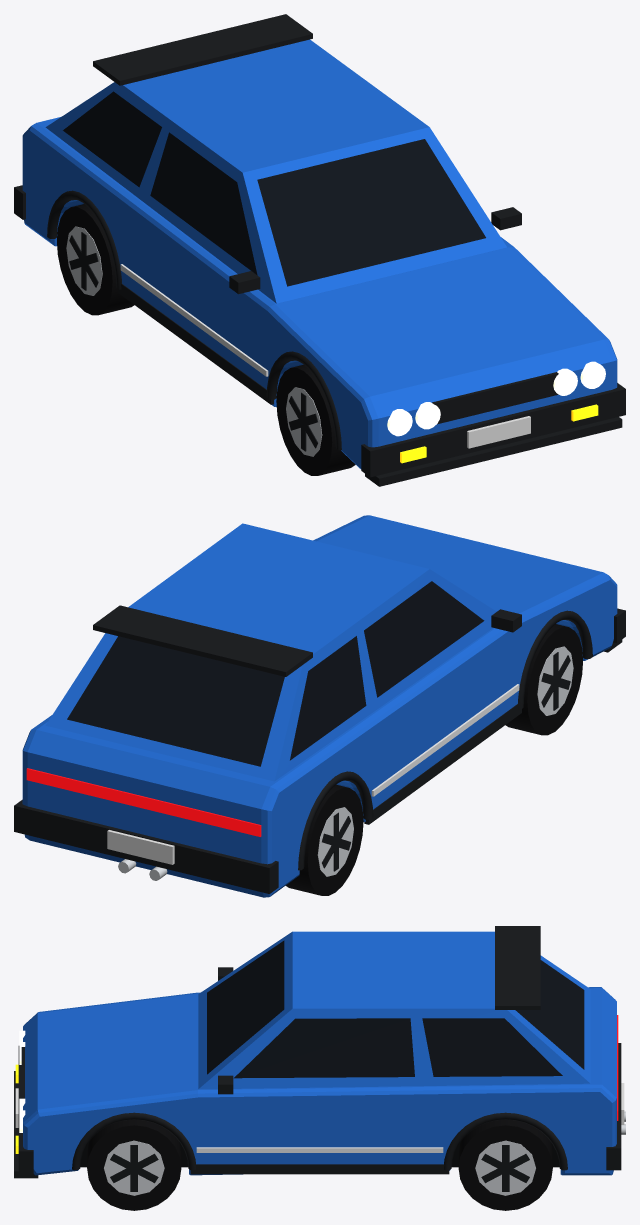
File: gol-turbao.glb
3 renders of one model, top to bottom at view 1: azimuth 30°, elevation 25°; view 2: azimuth 150°, elevation 25°; view 3: azimuth 270°, elevation 25°, orthographic. The views are drawn at different scales.
Parts seen in each view (by area): view 1: body, greenhouse, glass, roof_spoiler, bumper_front, wheel_FL, wheel_RL, lip_front, grille, arch_flare (×2), sill, side_stripe (+1 smaller); view 2: body, greenhouse, glass, bumper_rear, roof_spoiler, wheel_RL, wheel_FL, tail_lightbar, arch_flare (×2), sill, plate_rear, side_stripe (+1 smaller); view 3: body, greenhouse, glass, wheel_FR, wheel_RR, roof_spoiler, arch_flare (×2), sill, side_stripe, bumper_rear, bumper_front, underbody (+1 smaller).
Boxes of the visible parts, x1,y1,x2,y2 form: body: [22, 117, 617, 469]; greenhouse: [45, 39, 506, 303]; glass: [63, 91, 485, 286]; roof_spoiler: [93, 14, 312, 85]; bumper_front: [361, 383, 625, 477]; wheel_FL: [276, 364, 355, 475]; wheel_RL: [57, 204, 134, 315]; lip_front: [365, 417, 622, 486]; grille: [432, 372, 558, 424]; arch_flare (×2): [47, 190, 341, 450]; sill: [118, 283, 273, 404]; side_stripe: [120, 264, 268, 376]; body: [22, 515, 617, 897]; greenhouse: [45, 523, 496, 781]; glass: [67, 581, 484, 766]; bumper_rear: [14, 799, 278, 893]; roof_spoiler: [93, 605, 312, 676]; wheel_RL: [285, 784, 363, 895]; wheel_FL: [505, 624, 582, 735]; tail_lightbar: [26, 768, 261, 836]; arch_flare (×2): [298, 610, 592, 870]; sill: [364, 703, 521, 824]; plate_rear: [107, 830, 174, 864]; side_stripe: [371, 684, 519, 796]; body: [23, 987, 616, 1175]; greenhouse: [198, 931, 590, 1089]; glass: [207, 940, 584, 1078]; wheel_FR: [87, 1119, 181, 1210]; wheel_RR: [458, 1119, 552, 1210]; roof_spoiler: [495, 926, 540, 1009]; arch_flare (×2): [72, 1112, 567, 1170]; sill: [190, 1164, 449, 1174]; side_stripe: [196, 1147, 443, 1152]; bumper_rear: [606, 1043, 621, 1170]; bumper_front: [18, 1046, 33, 1173]; underbody: [80, 1142, 559, 1167].
Bounding box in the file's own units: 1.82 × 1.4 × 4.02.
